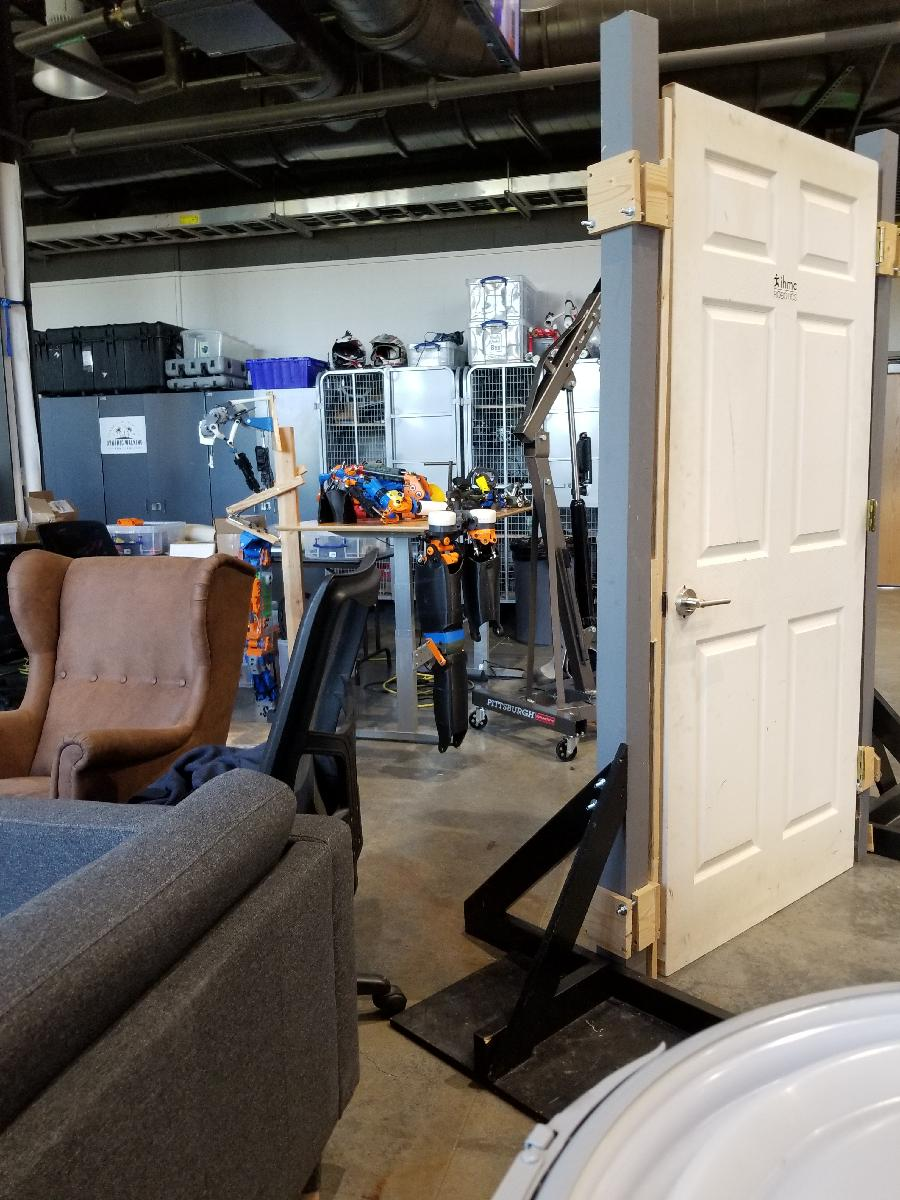door: (653, 83, 885, 982)
doorHandle: (668, 587, 737, 628)
